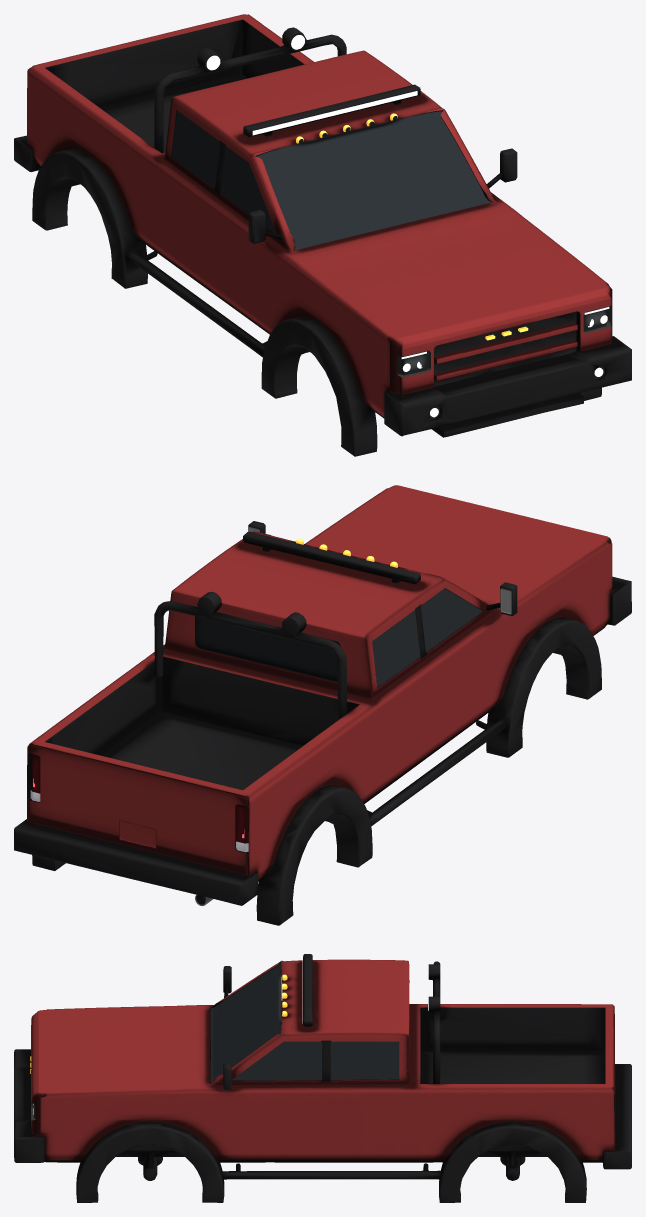
Rendered from juggernaut.glb.
The picture shows the model from 3 angles, top to bottom: view 1: azimuth 30°, elevation 25°; view 2: azimuth 150°, elevation 25°; view 3: azimuth 270°, elevation 25°; orthographic projection. The views are drawn at different scales.
Parts seen in each view (by area): view 1: paint, trim, window, grille, lens, head; view 2: paint, trim, glass, window, tail; view 3: paint, trim, window.
Part boxes in pixels (x1,y1,x2,y2): paint: (26,14,617,416); trim: (14,19,631,456); window: (172,110,492,250); grille: (434,312,576,386); lens: (206,35,603,417); head: (397,307,606,419); paint: (26,485,617,879); trim: (14,521,631,925); glass: (195,616,340,681); window: (372,588,482,687); tail: (30,754,248,843); paint: (30,959,615,1160); trim: (14,954,631,1202); window: (210,963,399,1083).
Size of what is drawn, in the model's own units: 2.26 by 1.82 by 5.76.
